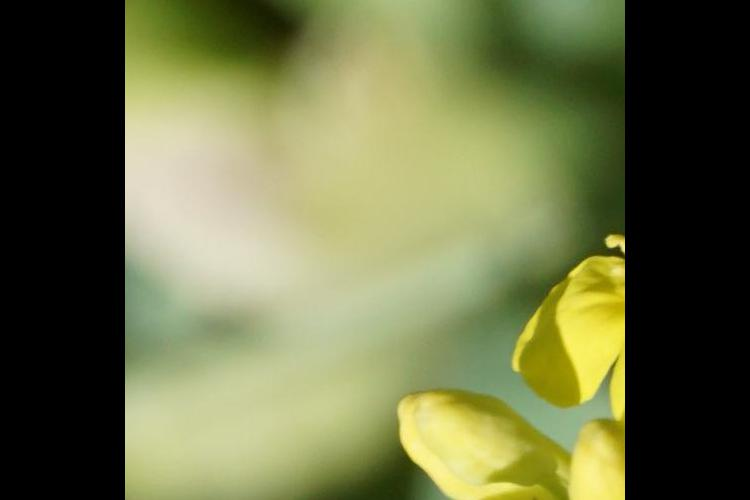bud: (386, 383, 563, 500), (559, 415, 626, 500)
yellow: (511, 247, 625, 409)
